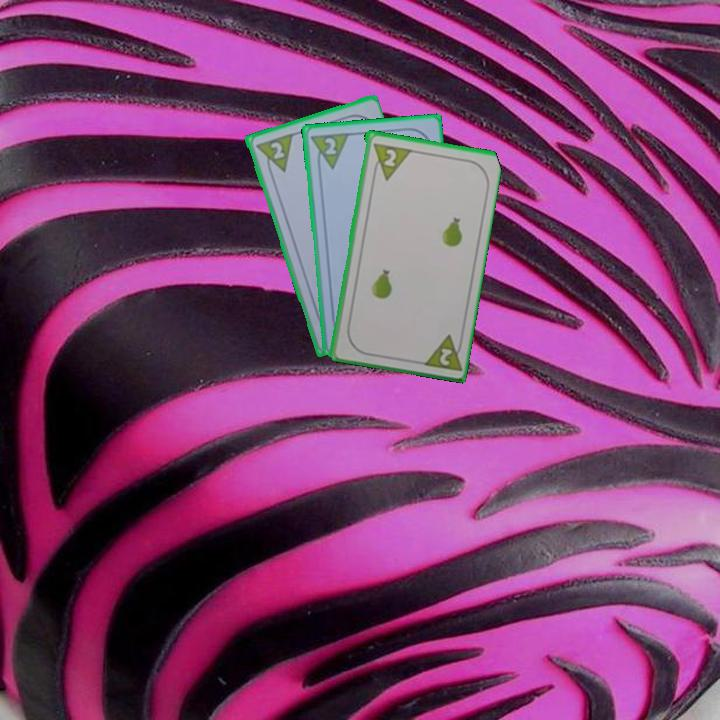2p: (251, 130, 295, 179), (418, 330, 465, 374), (368, 139, 412, 183), (321, 134, 339, 158)
